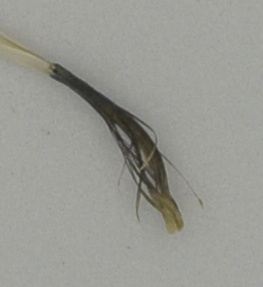เมล้ดปลายพู่กัน: (1, 32, 207, 236)
